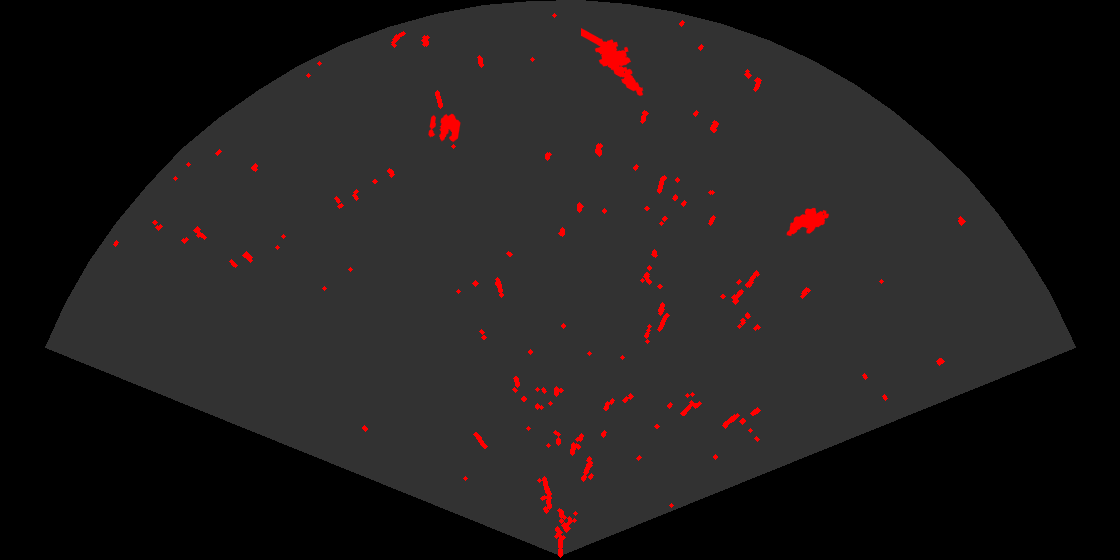AUV: (785, 206, 831, 238)
ball: (427, 112, 462, 144)
frogman: (581, 27, 645, 98)
